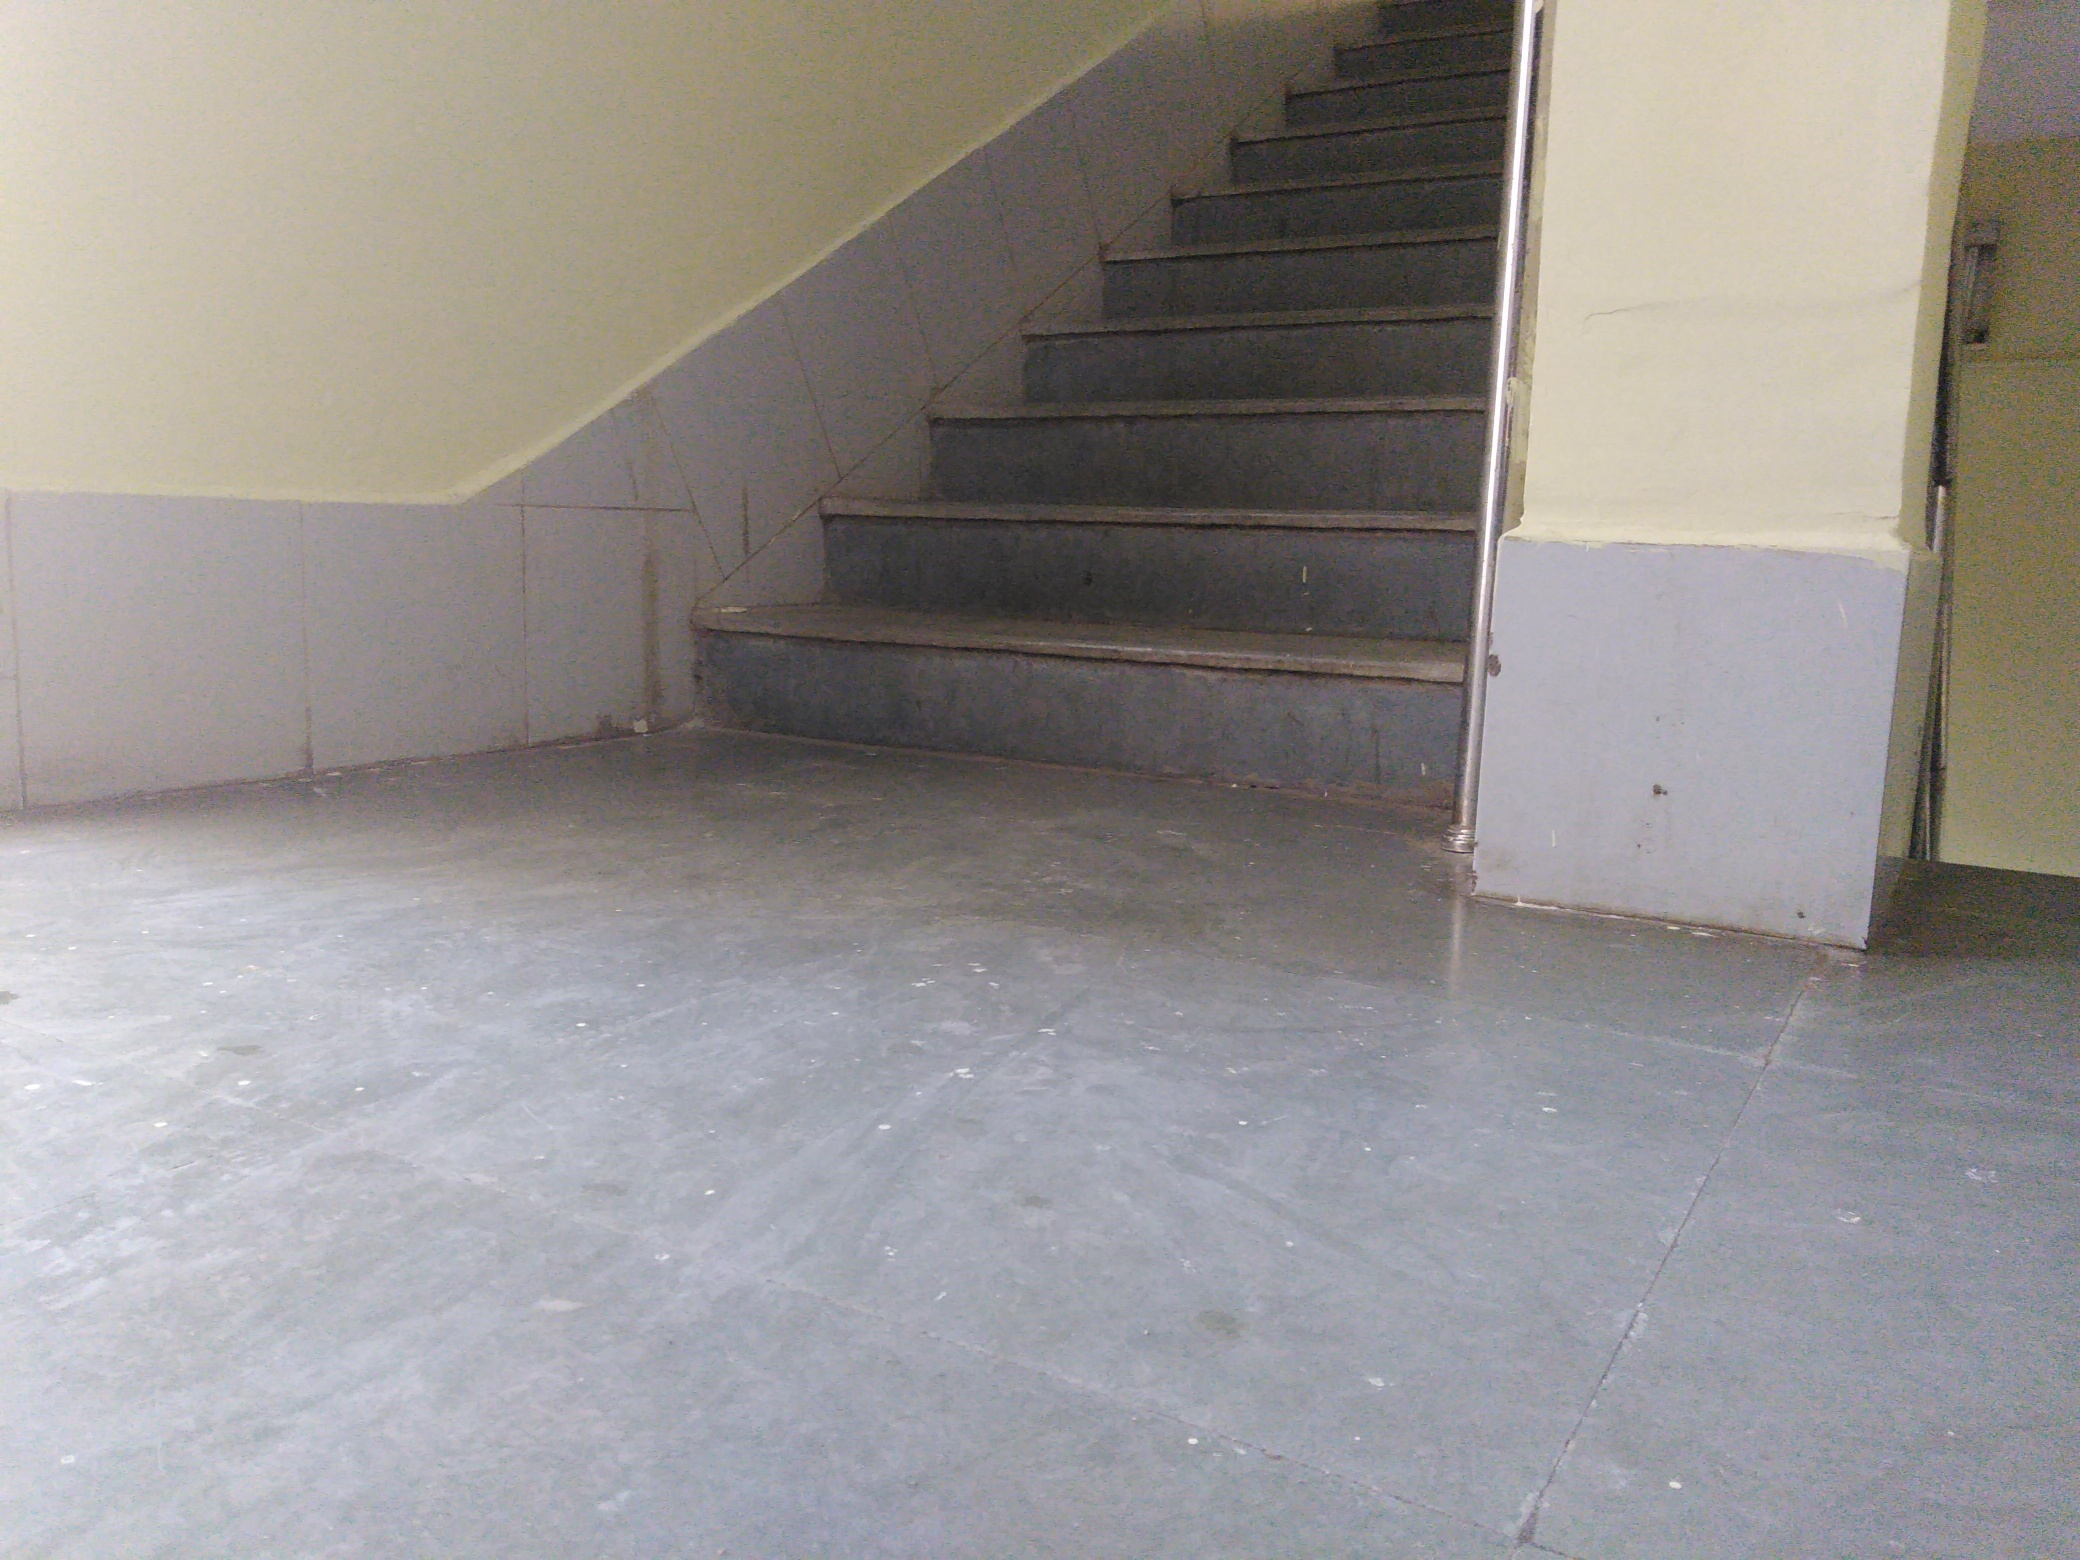stairs_up: (635, 25, 1503, 839)
